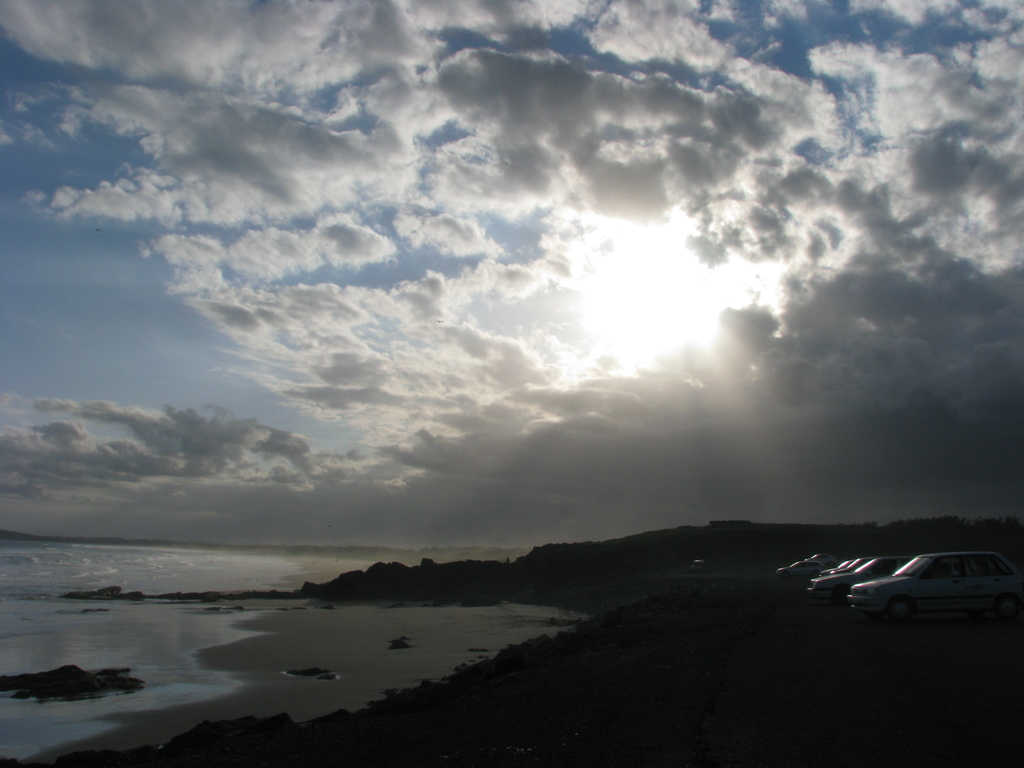car: (833, 532, 1024, 640), (799, 547, 914, 619), (759, 552, 831, 602)
